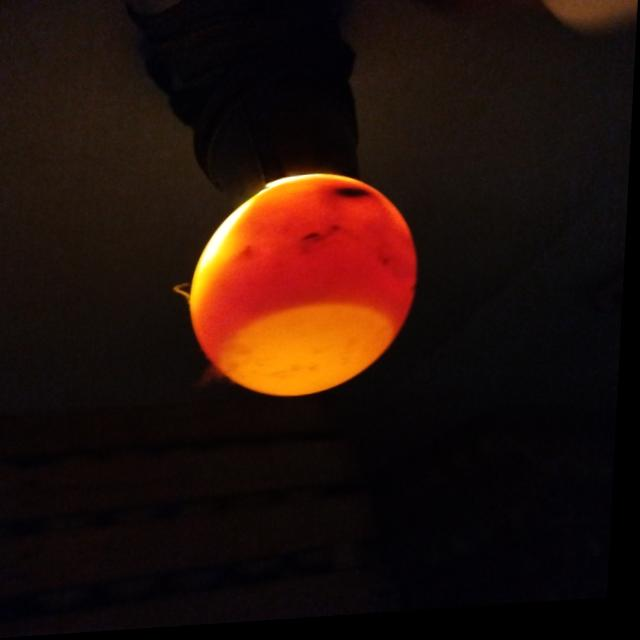Area Infectada: (337, 193, 371, 203)
